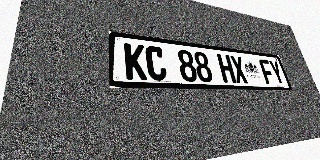8: (177, 49, 198, 82), (193, 51, 214, 82)
C: (145, 45, 168, 81)
F: (258, 59, 276, 84)
H: (217, 54, 237, 83)
K: (124, 43, 147, 80)
X: (229, 55, 249, 84)
Y: (268, 60, 286, 85)
